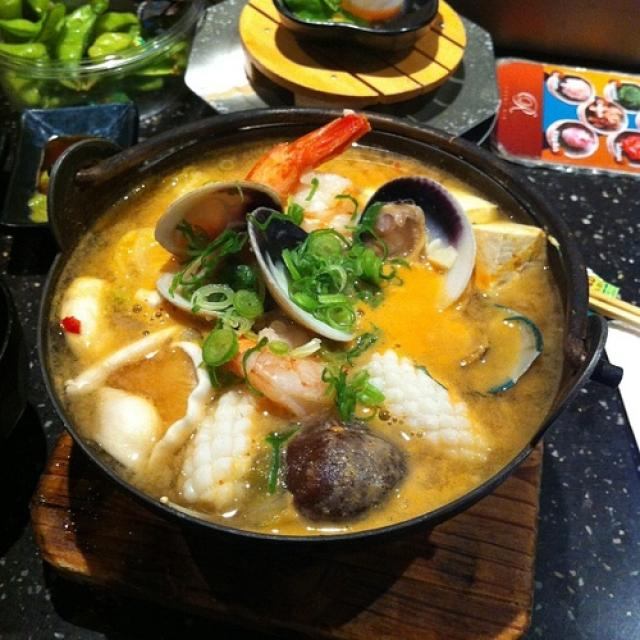汤锅炖物: (41, 76, 580, 538)
